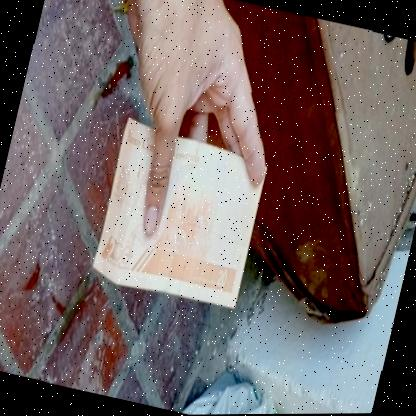twenty-back-vef: (89, 116, 272, 312)
